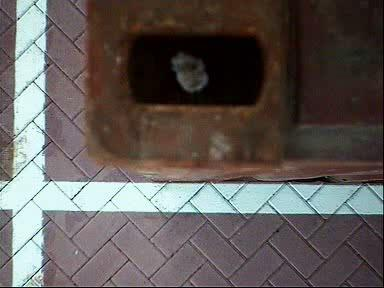groundmarker_2: (126, 132, 214, 288)
